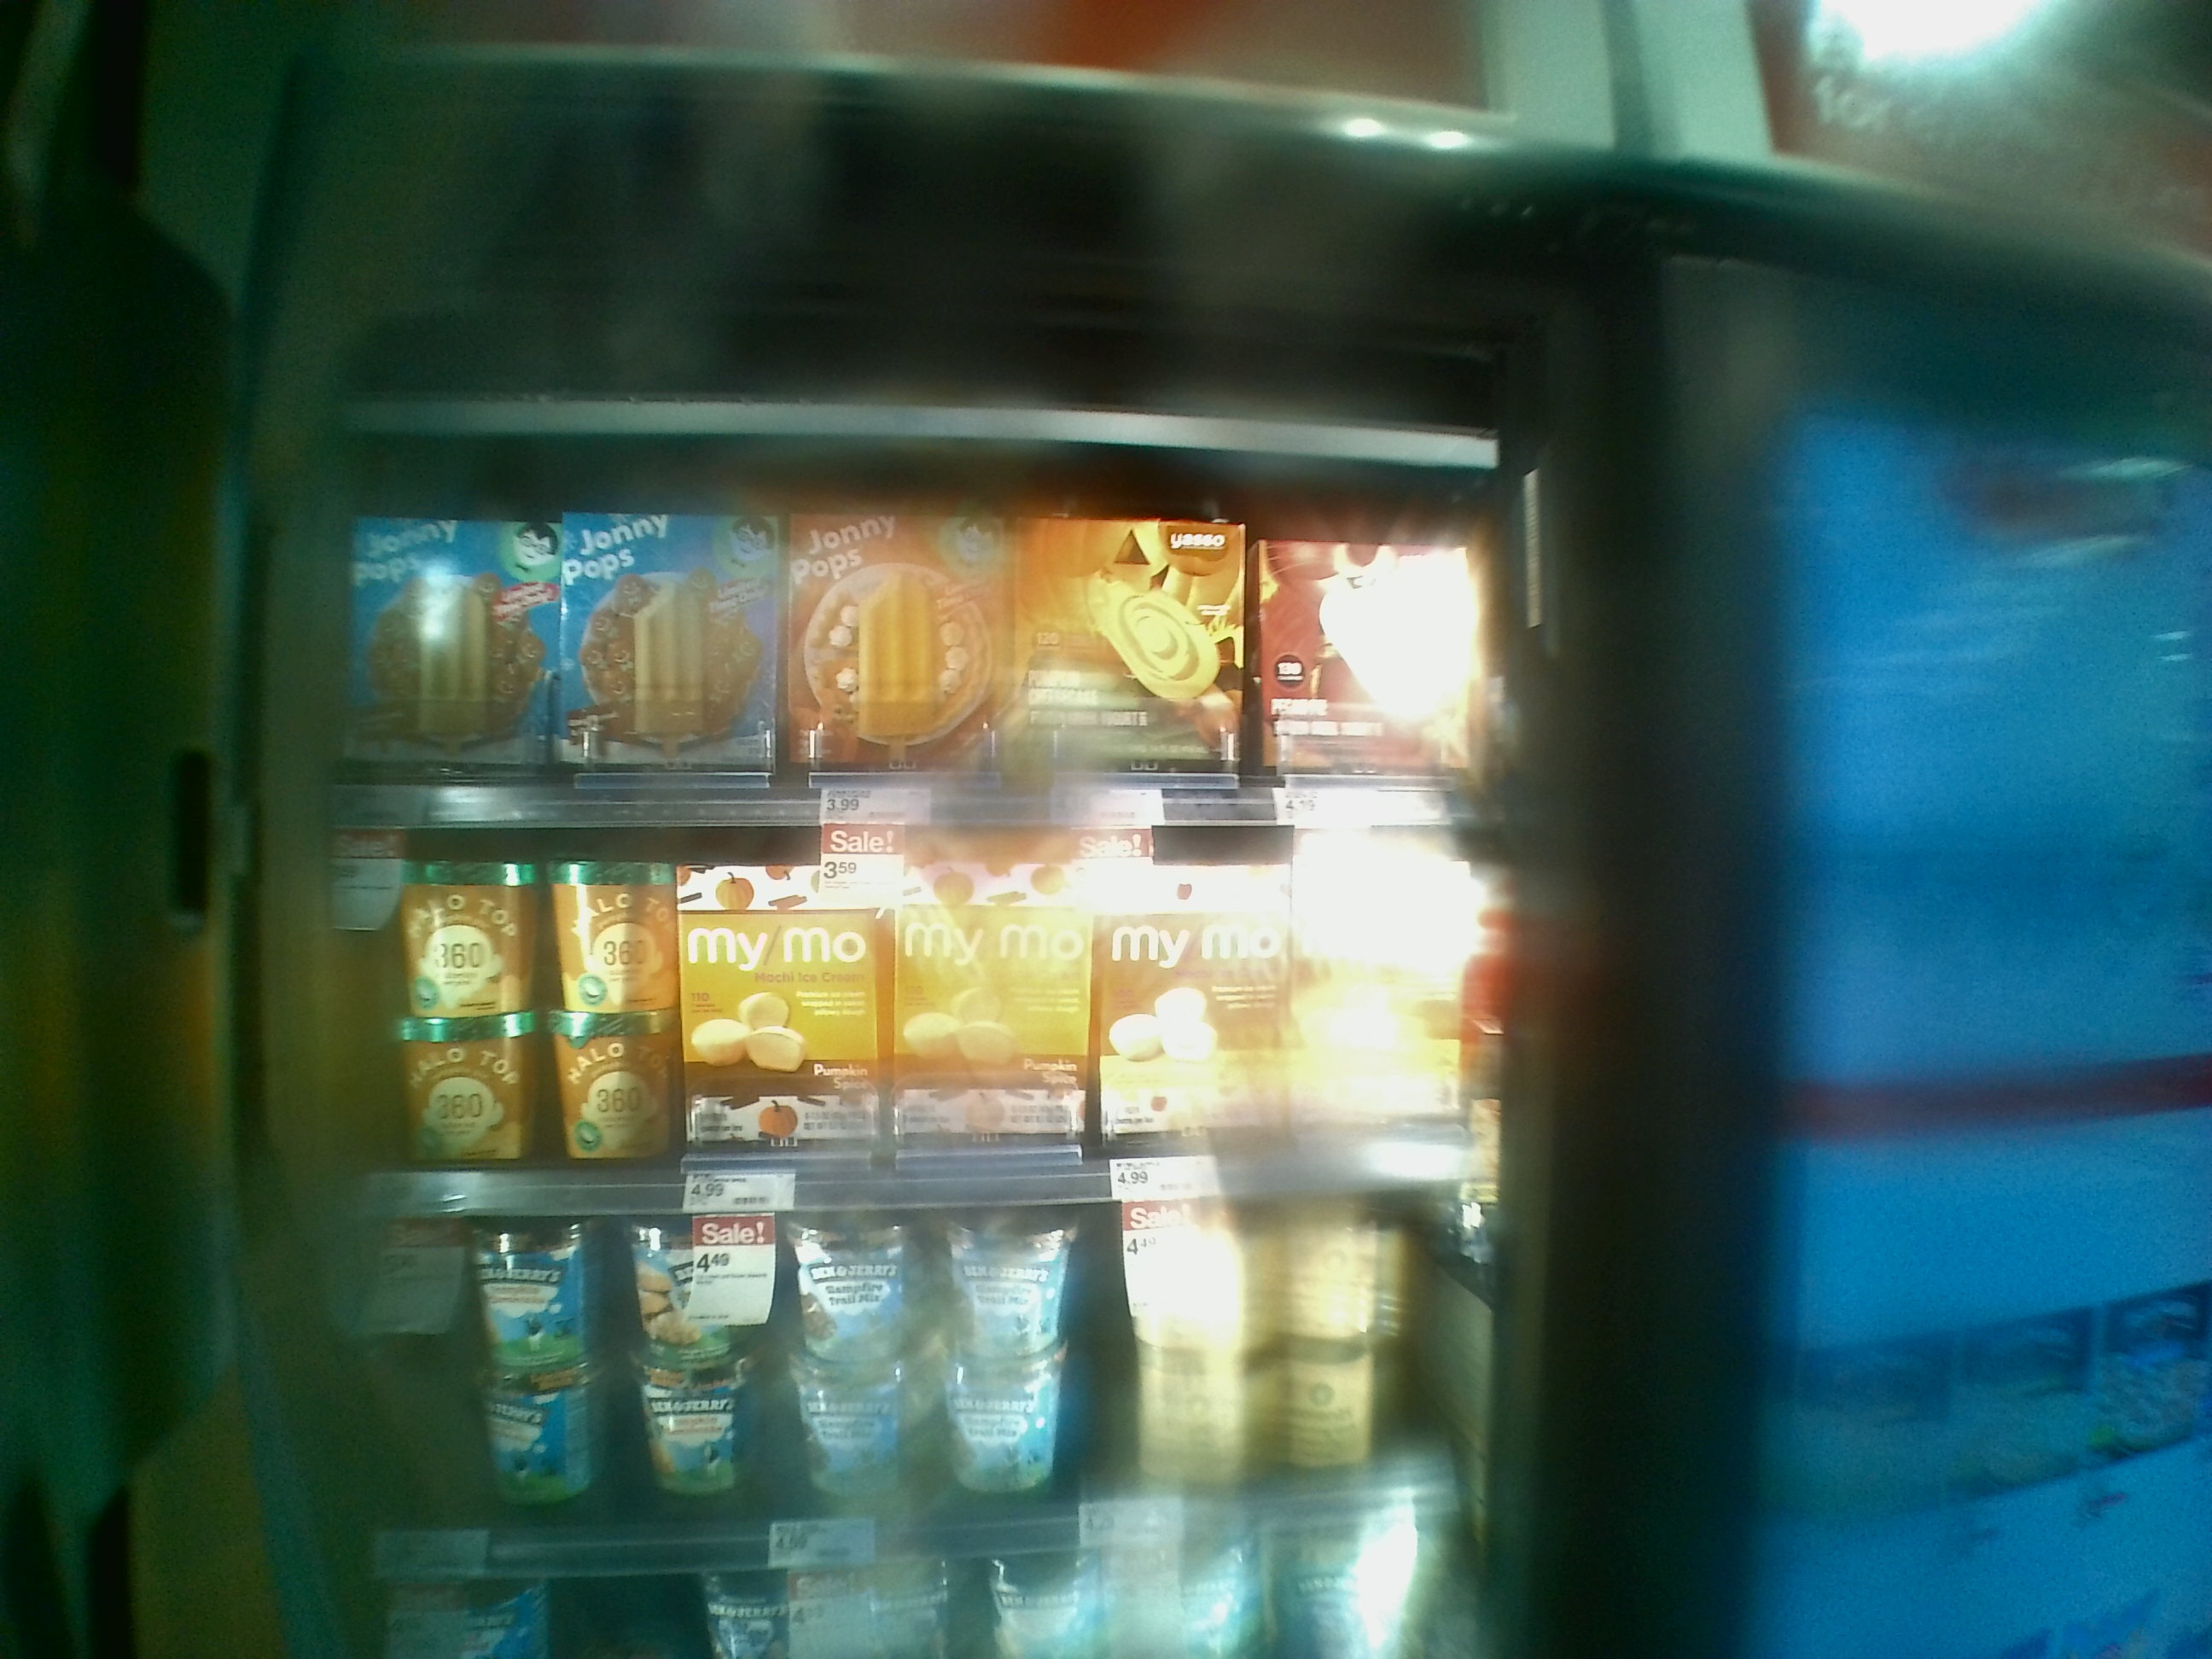shelf: (296, 415, 1545, 833), (291, 798, 1529, 1208), (270, 1185, 1522, 1544)
